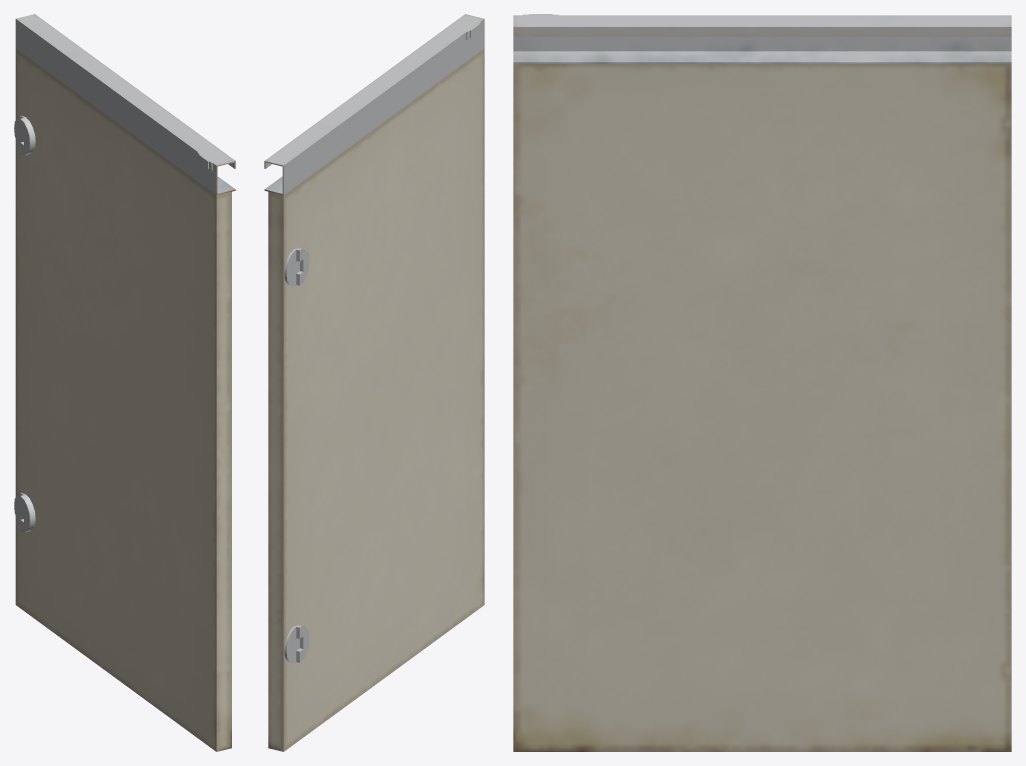
The model's file is FurnitureKicthen03_DoorDownRight01.FBX.
The picture shows the model from 3 angles, left to right: view 1: azimuth 30°, elevation 25°; view 2: azimuth 150°, elevation 25°; view 3: azimuth 270°, elevation 25°; orthographic projection. The views are drawn at different scales.
Visible parts, largest first — view 1: FurnitureKicthen03_DoorDownRight01; view 2: FurnitureKicthen03_DoorDownRight01; view 3: FurnitureKicthen03_DoorDownRight01.
Part boxes in pixels (x1,y1,x2,y2): FurnitureKicthen03_DoorDownRight01: [14, 14, 235, 751]; FurnitureKicthen03_DoorDownRight01: [264, 14, 484, 751]; FurnitureKicthen03_DoorDownRight01: [513, 14, 1011, 751].
Size of the model in its own units: 3.24 by 45 by 72.5.
